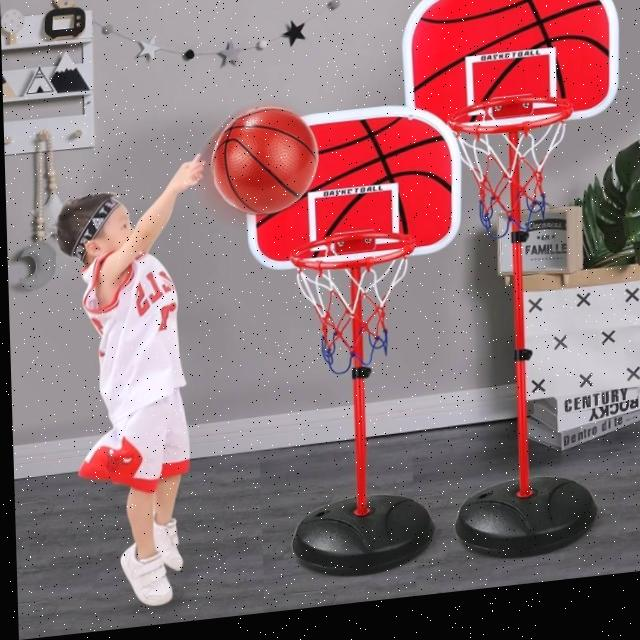basketball: (211, 102, 319, 218)
hoop: (291, 227, 420, 374), (450, 90, 577, 235)
